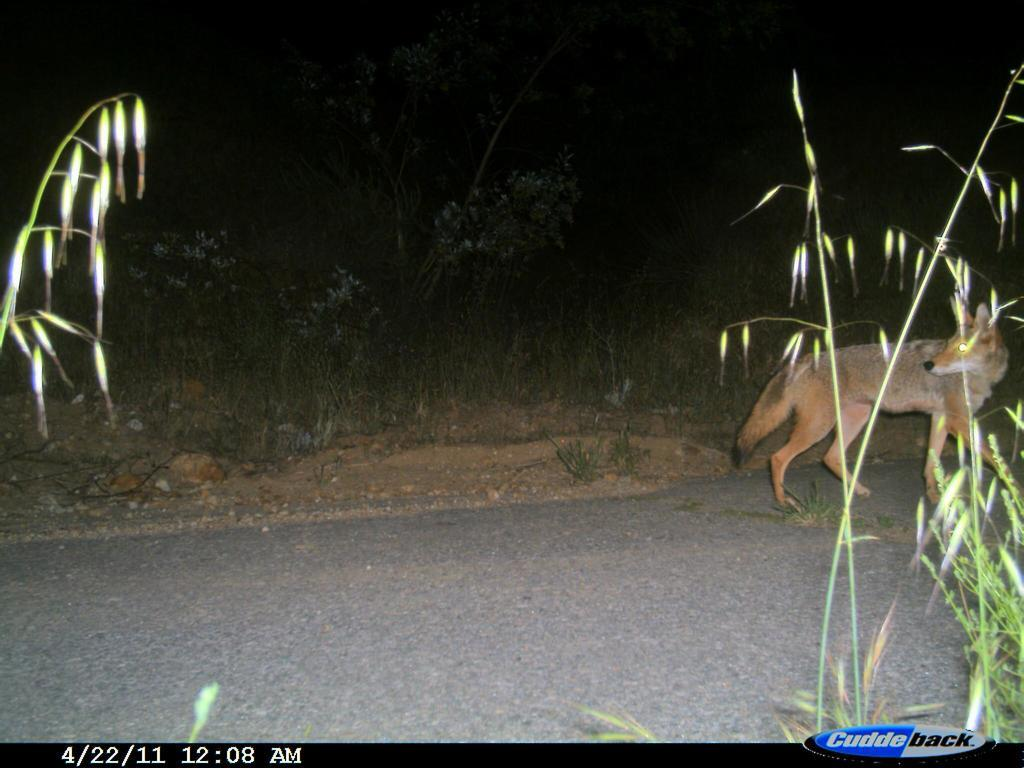coyote: (726, 283, 1024, 521)
